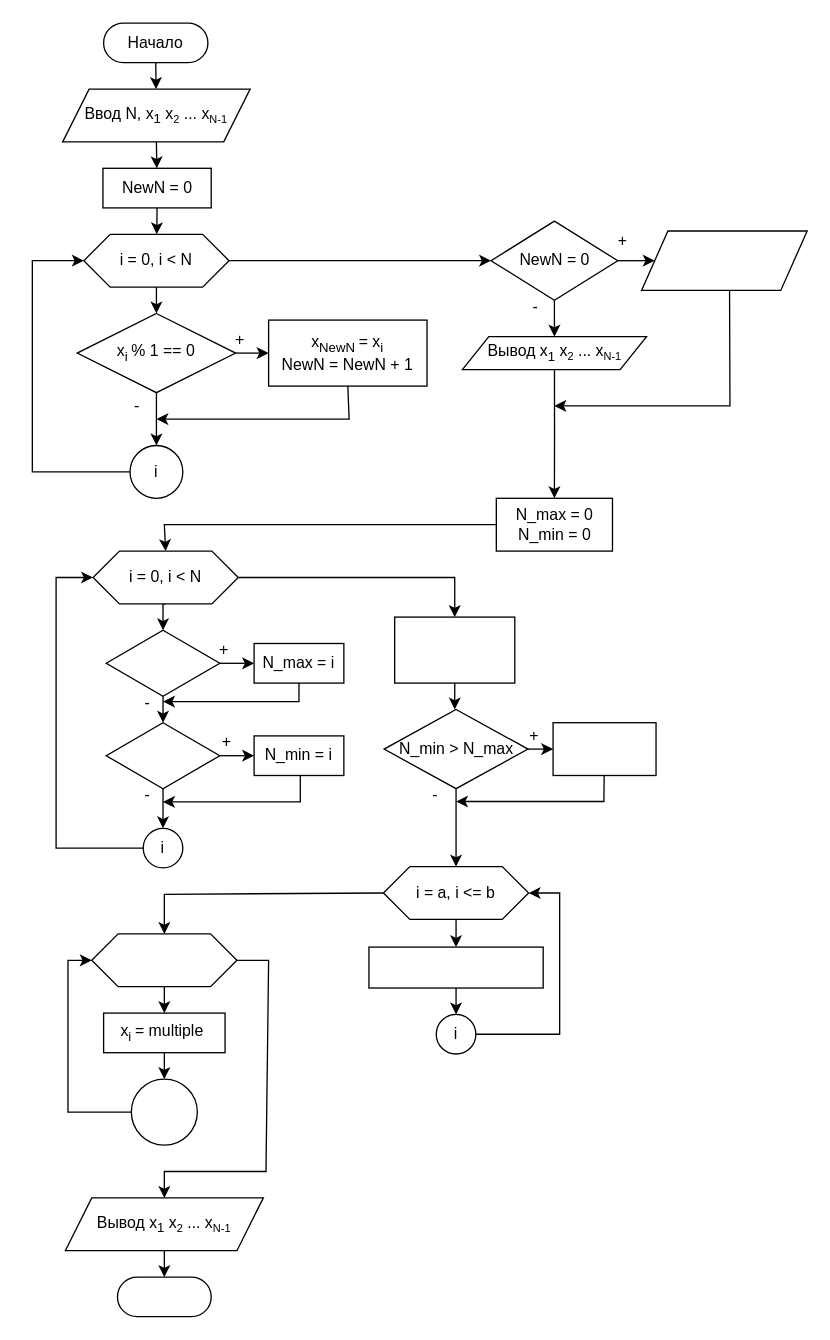
Some shapes in this 830 by 1340 pixel diagram are drawn without their labels. The shapes that lost their labels are listed below. From the top down, each one's centre as x and y in pixels, then its label:
the point at 723,260: Вывод "нет элементов"
the point at 162,662: x i > x N_max
the point at 454,649: multiple = 1 a = N_min b = N_max
the point at 162,755: x i < x N_min
the point at 604,748: a = N_max b = N_min
the point at 163,960: i = i, i < N
the point at 455,967: multiple = multiple * x i
the point at 163,1111: i = i + 2
the point at 163,1296: Конец
